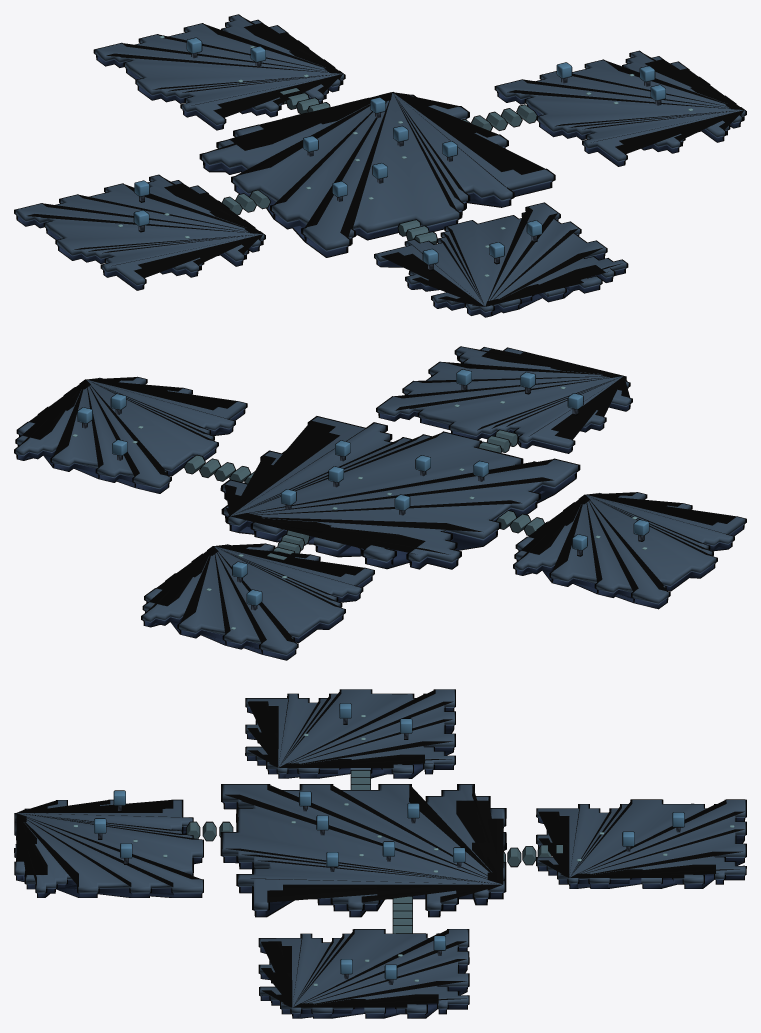
Rendered from blue.fbx.
3 views of the same model, one above another, from view 1: azimuth 30°, elevation 25°; view 2: azimuth 150°, elevation 25°; view 3: azimuth 270°, elevation 25° (orthographic).
Parts seen in each view (by area): view 1: Island.001, Island.002, Island.004, Island.003, Island.005; view 2: Island.001, Island.002, Island.005, Island.003, Island.004; view 3: Island.001, Island.004, Island.005, Island.003, Island.002.
Boxes of the visible parts, x1,y1,x2,y2 form: Island.001: [199, 92, 555, 257]; Island.002: [14, 174, 265, 290]; Island.004: [374, 202, 628, 317]; Island.003: [494, 50, 746, 166]; Island.005: [93, 14, 345, 130]; Island.001: [220, 416, 580, 569]; Island.002: [513, 492, 746, 609]; Island.005: [141, 543, 374, 660]; Island.003: [14, 376, 247, 493]; Island.004: [376, 346, 632, 453]; Island.001: [220, 784, 506, 917]; Island.004: [14, 799, 203, 897]; Island.005: [536, 799, 746, 888]; Island.003: [258, 929, 469, 1018]; Island.002: [245, 689, 455, 778].
Bounding box in the file's own units: 390608 × 18158 × 377852.
